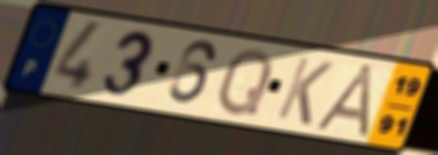3: (99, 27, 164, 102)
4: (49, 16, 107, 95)
6: (166, 38, 221, 110)
A: (310, 62, 376, 141)
K: (273, 53, 337, 128)
Q: (215, 45, 276, 118)
